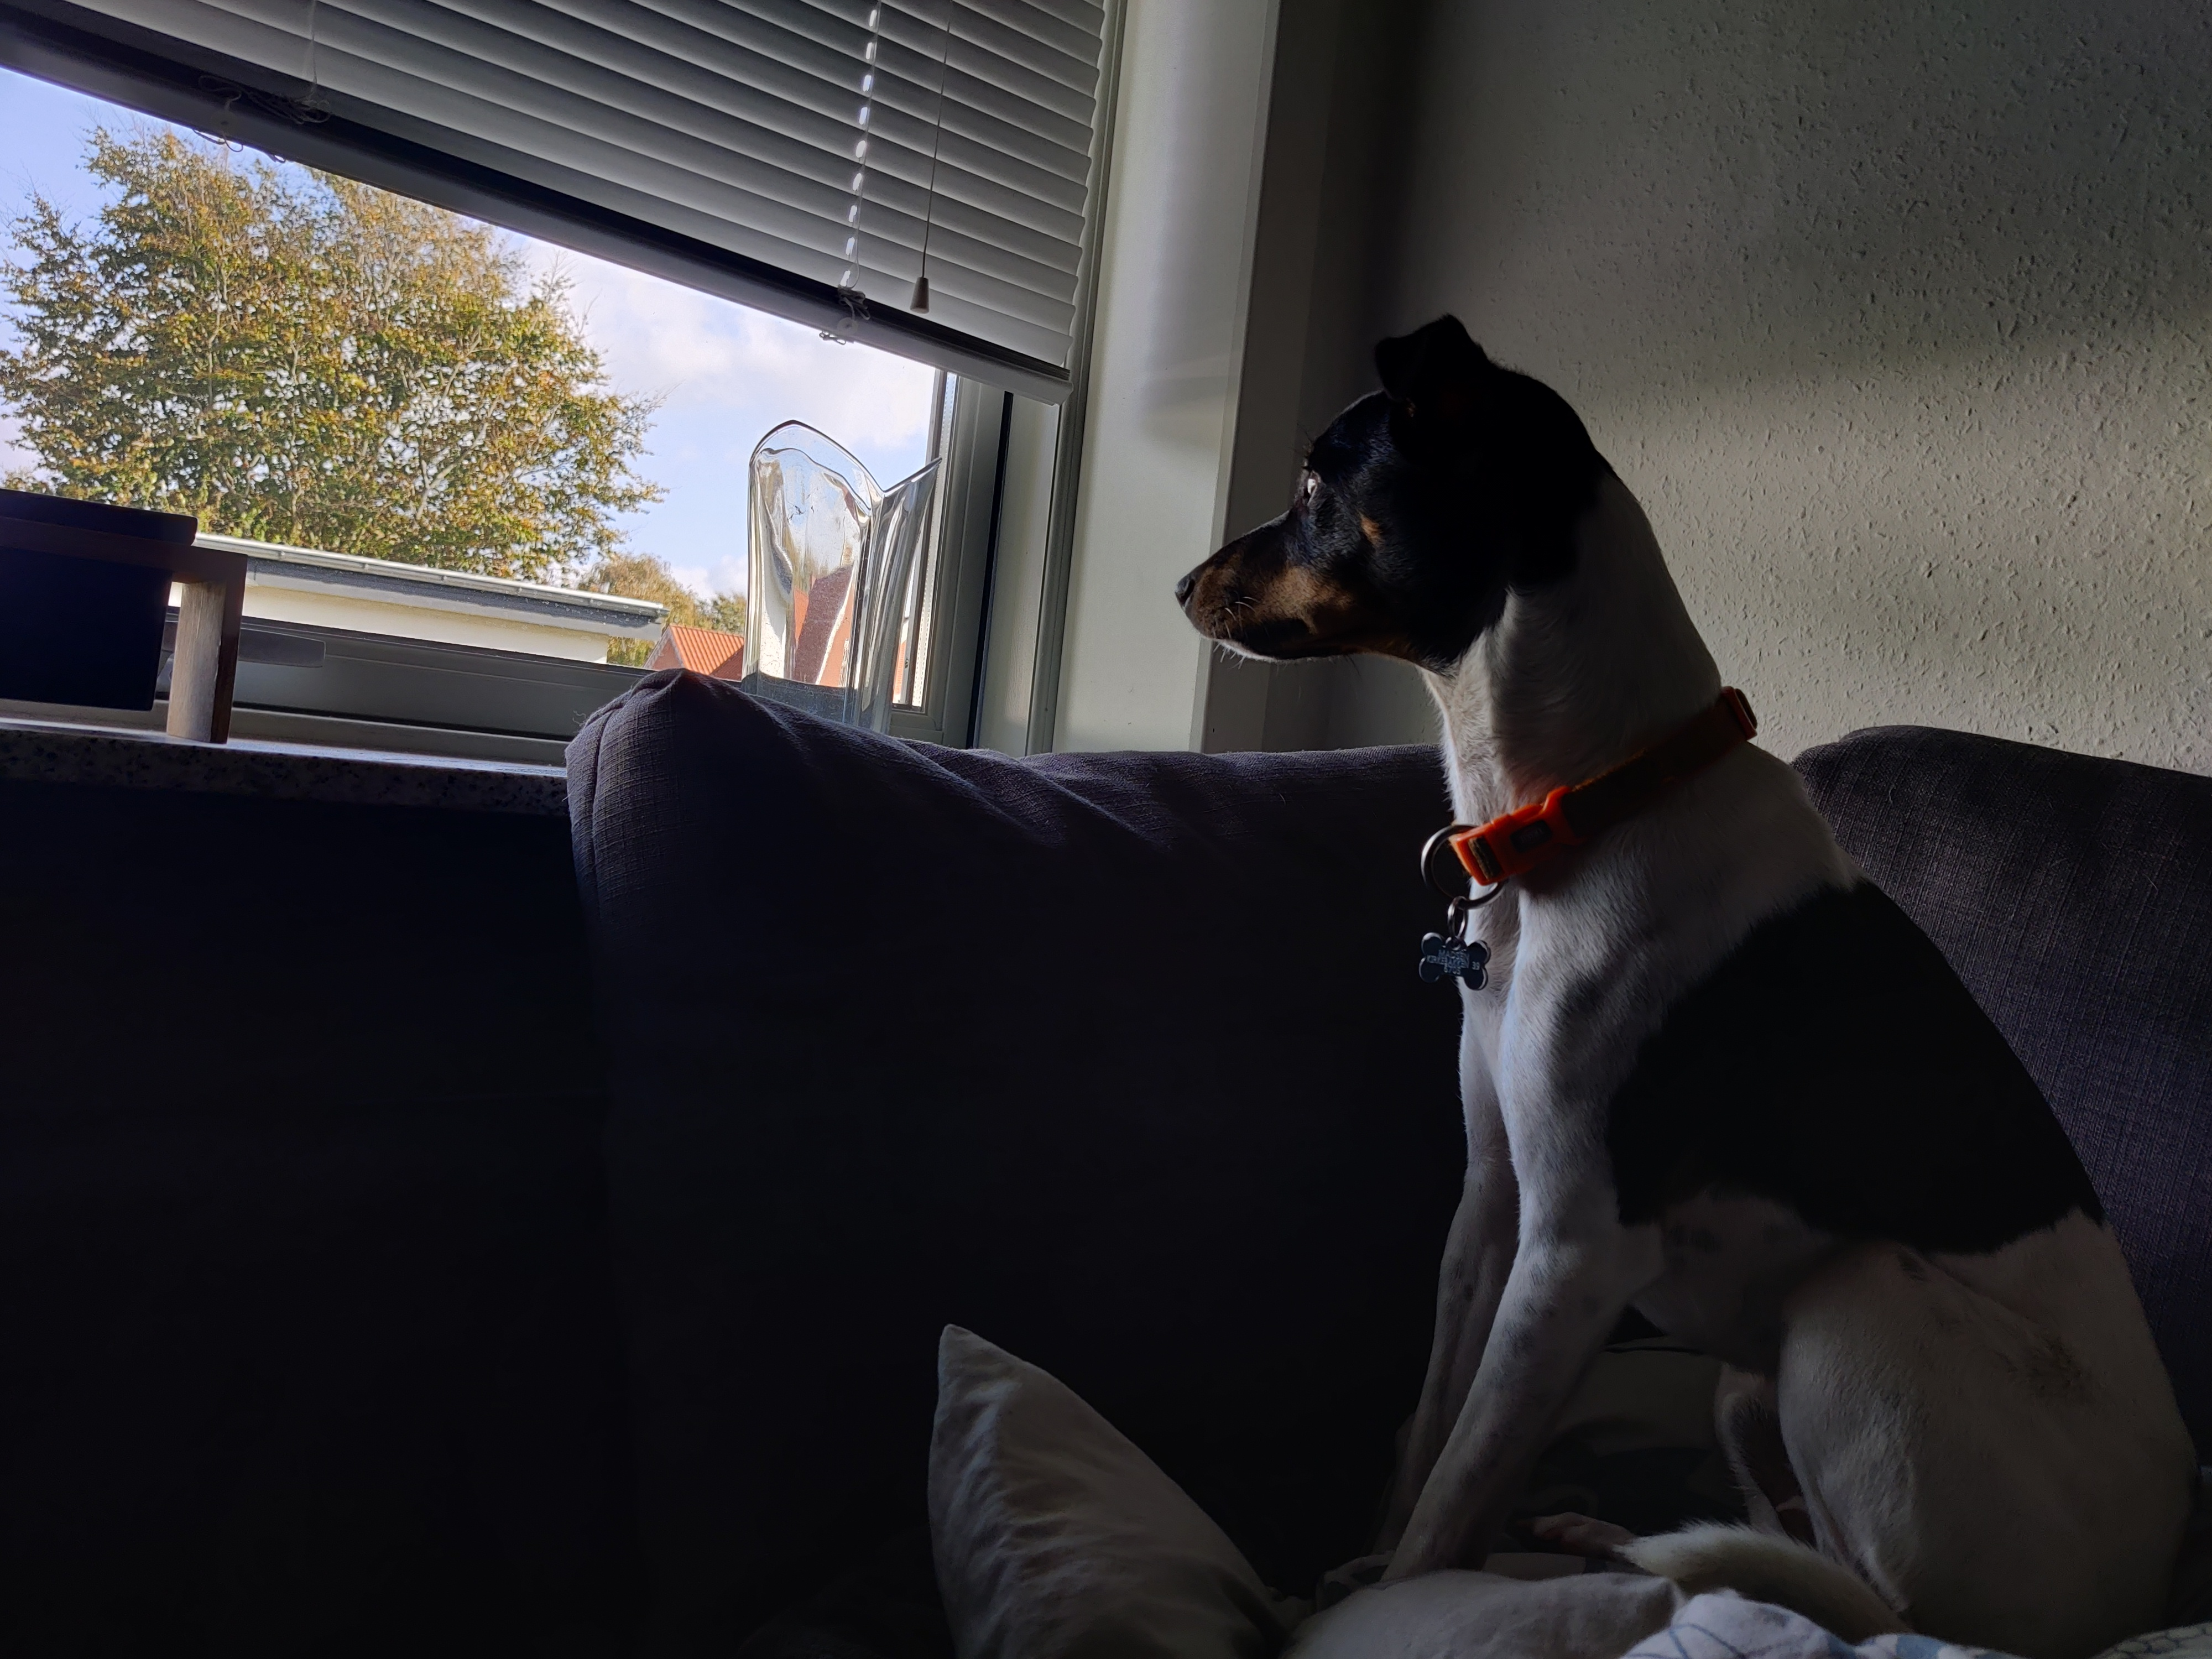Dog: (1165, 307, 2212, 1659)
